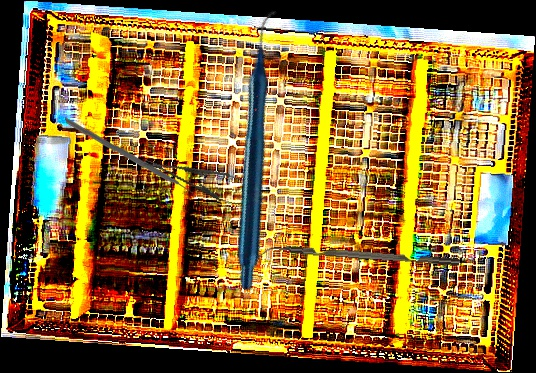Chopper: (65, 112, 195, 212), (258, 241, 460, 276)
Handpiece: (120, 7, 400, 294)
Needle Holder: (139, 147, 270, 214)
